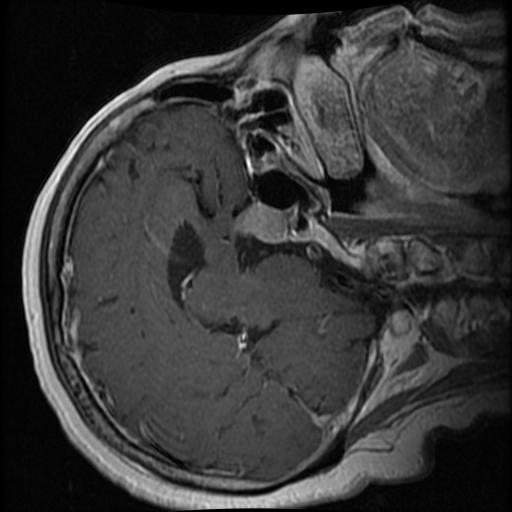pituitary tumour: (235, 205, 285, 243)
